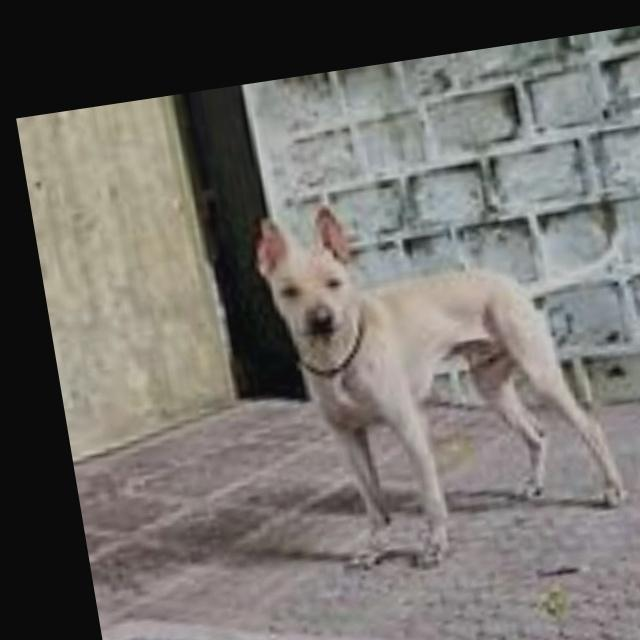dog: (259, 162, 640, 632)
